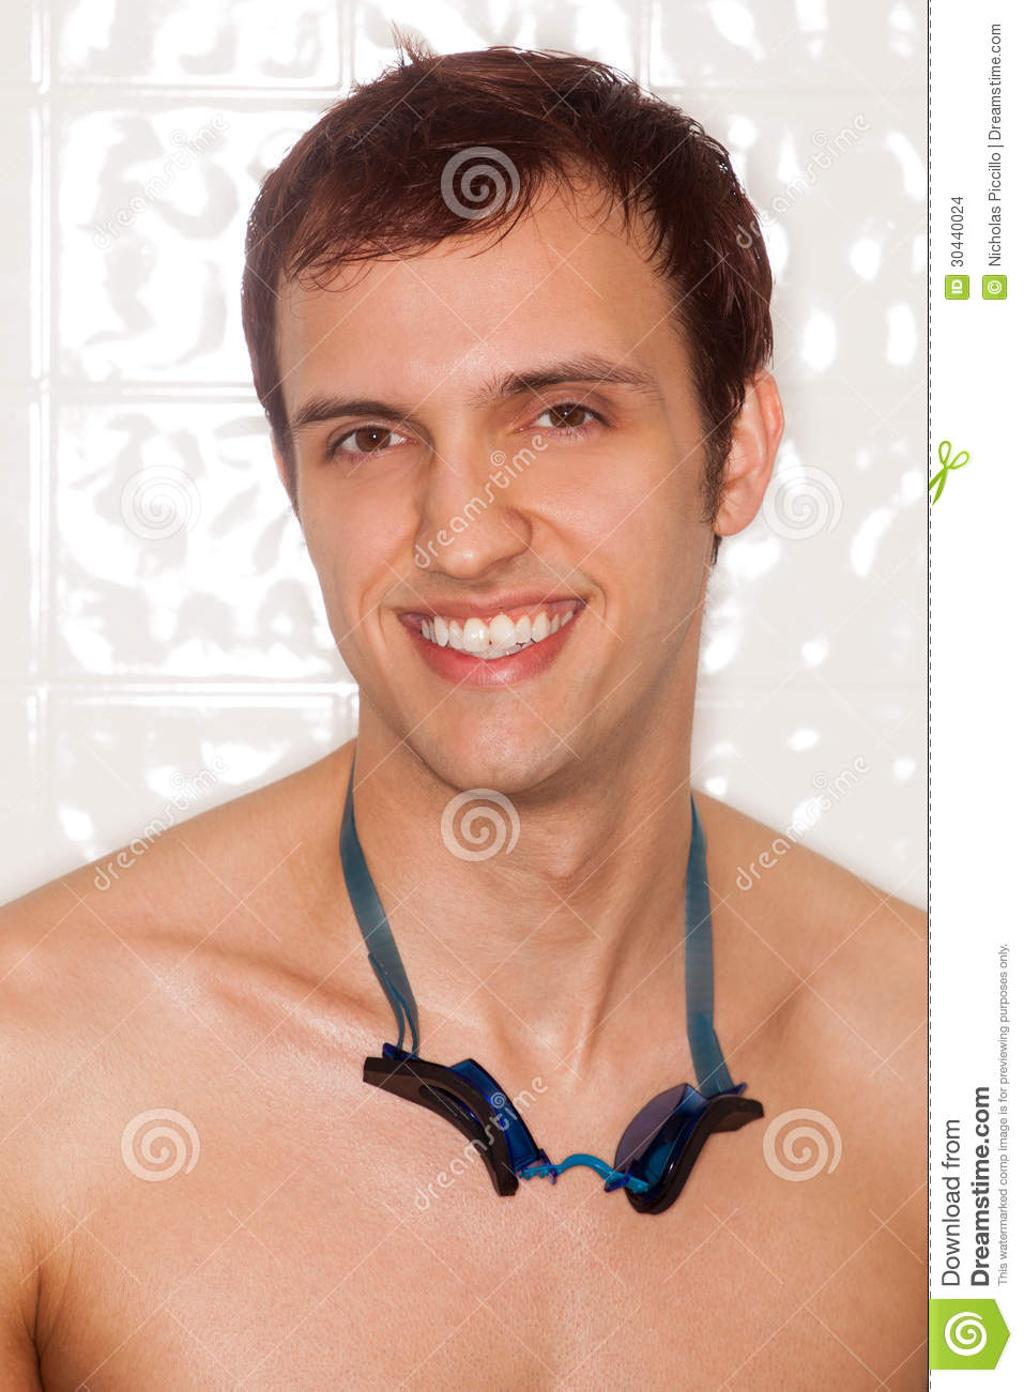face: (291, 258, 677, 796)
